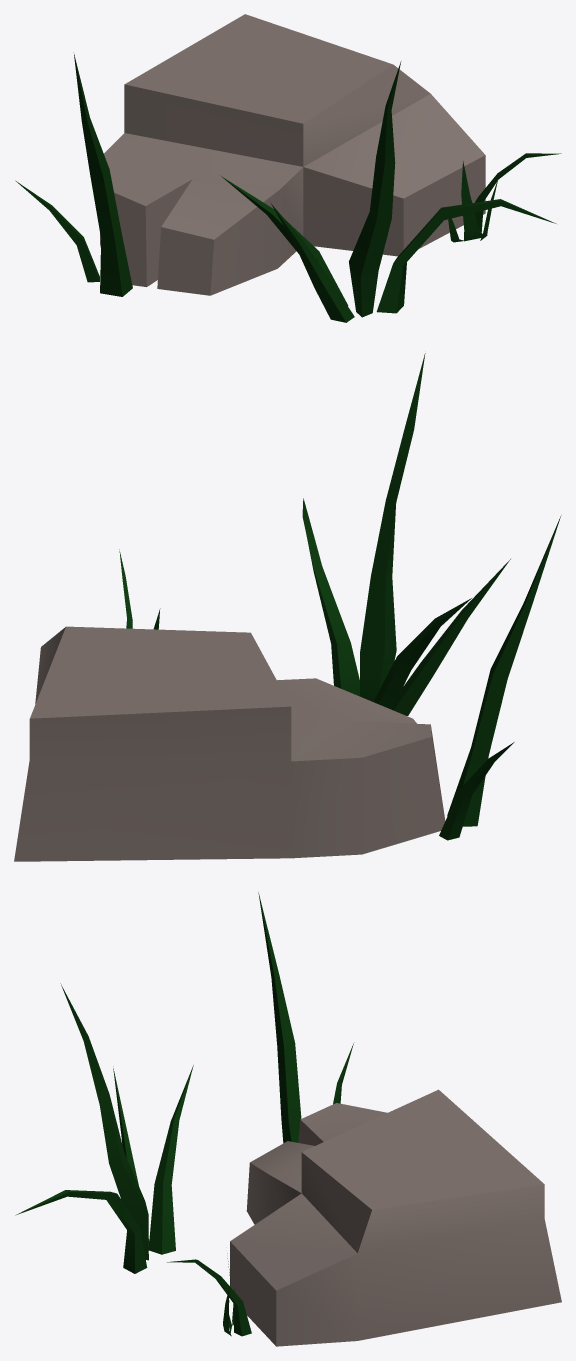
The model's file is Mix18.obj.
The picture shows the model from 3 angles, top to bottom: view 1: azimuth 30°, elevation 25°; view 2: azimuth 150°, elevation 25°; view 3: azimuth 270°, elevation 25°; orthographic projection. The views are drawn at different scales.
Parts seen in each view (by area): view 1: Mix_18; view 2: Mix_18; view 3: Mix_18.
Part boxes in pixels (x1,y1,x2,y2): Mix_18: (15,14,561,322); Mix_18: (14,353,561,861); Mix_18: (15,892,561,1346).
Bounding box in the file's own units: 0.1852 × 0.1122 × 0.2047.
